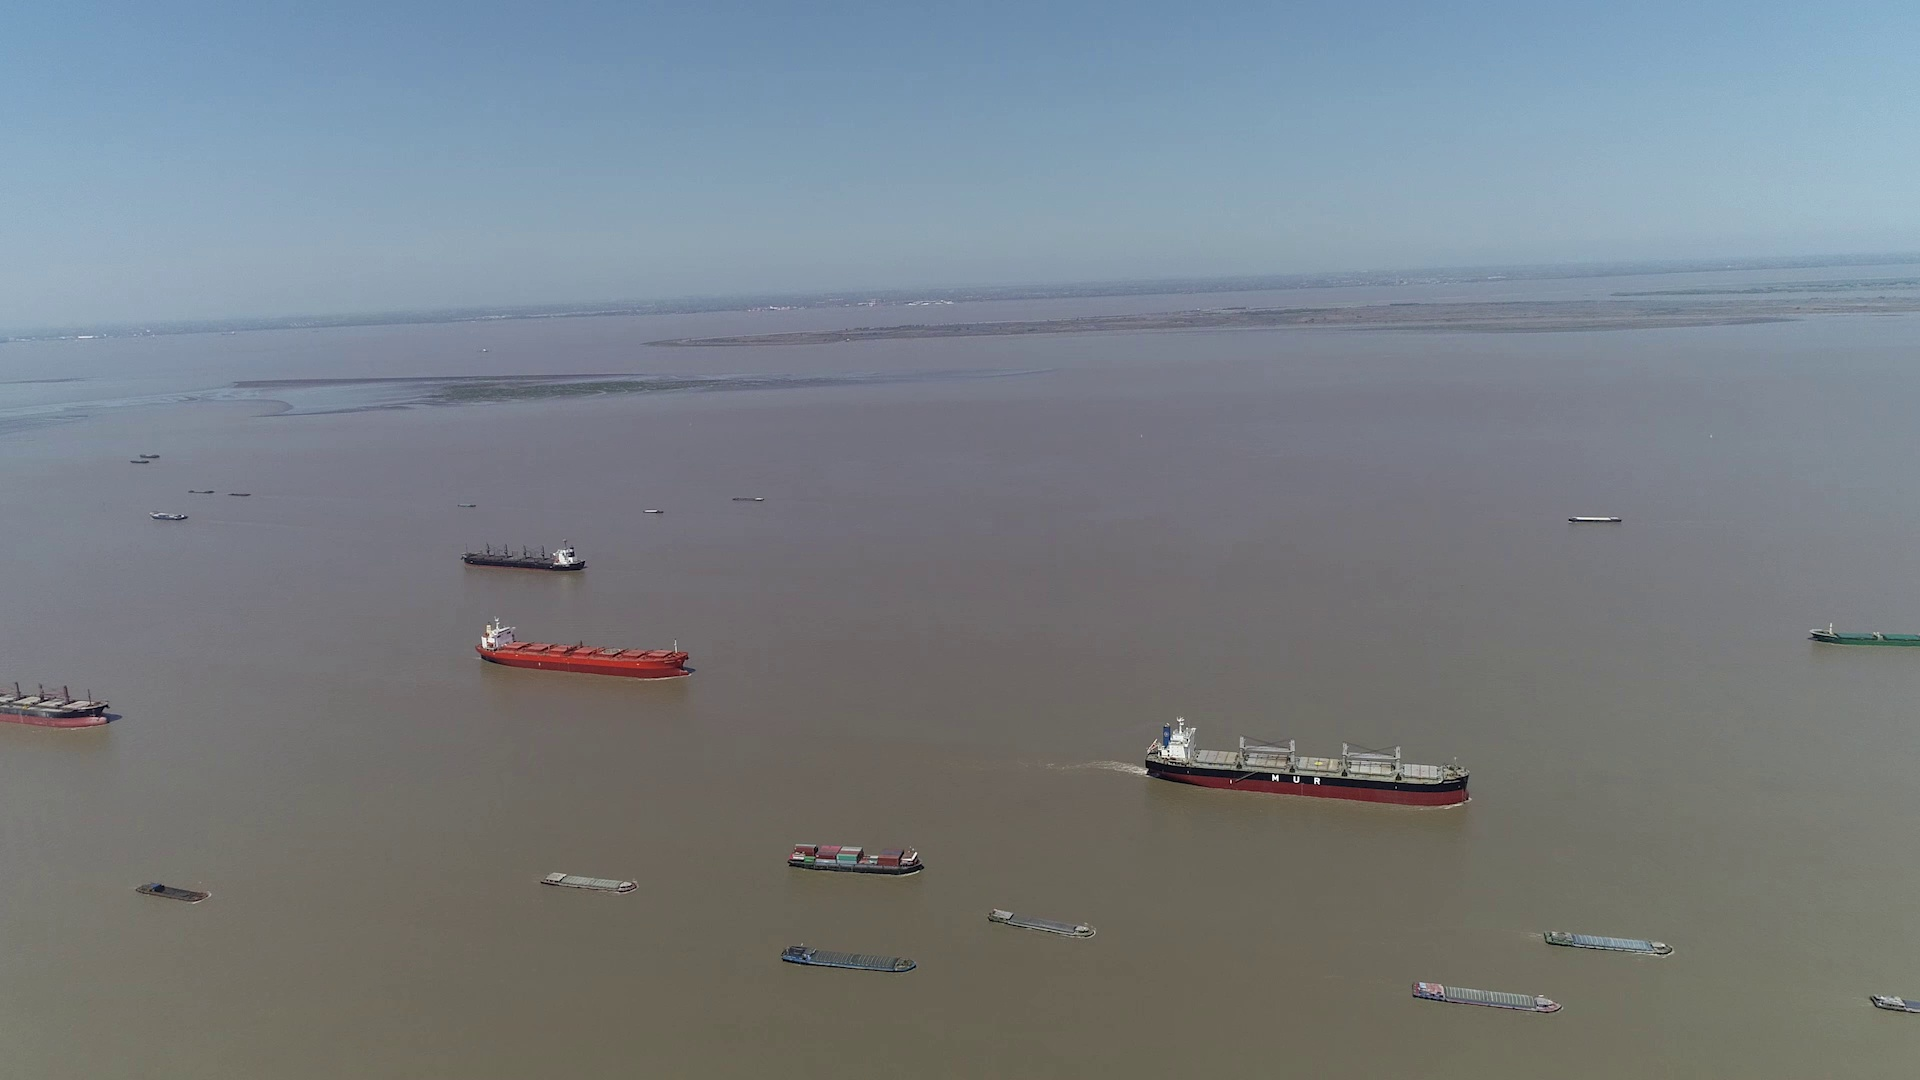ship: (1143, 717, 1472, 806), (477, 620, 688, 680), (1, 663, 117, 729), (1412, 980, 1560, 1013), (787, 841, 923, 876), (779, 943, 916, 973), (462, 541, 585, 571), (1543, 928, 1672, 956), (989, 909, 1095, 939), (1809, 624, 1919, 647), (539, 872, 636, 895), (136, 881, 204, 905), (1870, 993, 1919, 1018), (1569, 514, 1622, 524), (152, 512, 190, 521)
